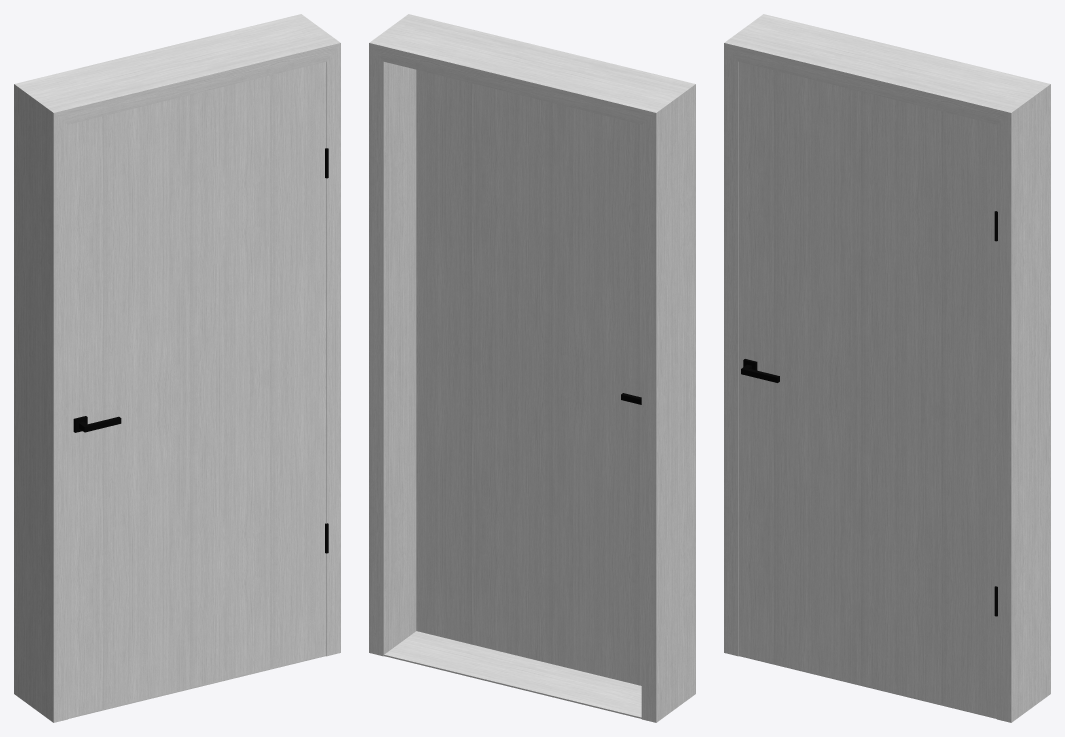
Rendered from DoorB.FBX.
3 views of the same model, side by side, from view 1: azimuth 30°, elevation 25°; view 2: azimuth 150°, elevation 25°; view 3: azimuth 330°, elevation 25° (orthographic).
Visible parts, largest first — view 1: Door, DoorB; view 2: Door, DoorB; view 3: Door, DoorB.
Boxes of the visible parts, bbox=[...] form: Door: bbox=[68, 62, 325, 717]; DoorB: bbox=[14, 14, 340, 722]; Door: bbox=[416, 69, 641, 685]; DoorB: bbox=[369, 14, 695, 722]; Door: bbox=[739, 62, 996, 717]; DoorB: bbox=[724, 14, 1050, 722].
Size of the model in its own units: 105 by 212 by 29.36.
